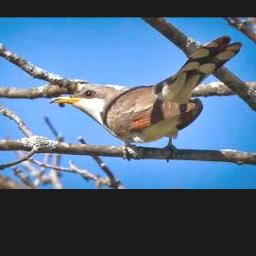Cuckoo: (49, 36, 241, 150)
